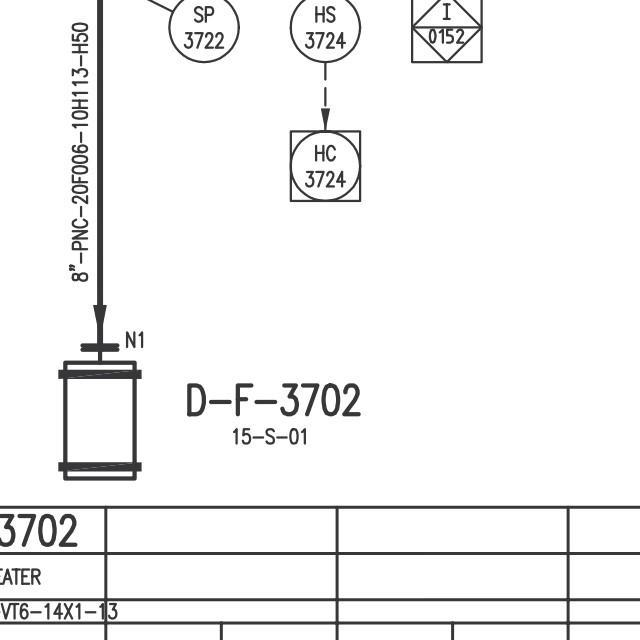D2: (50, 353, 149, 488)
